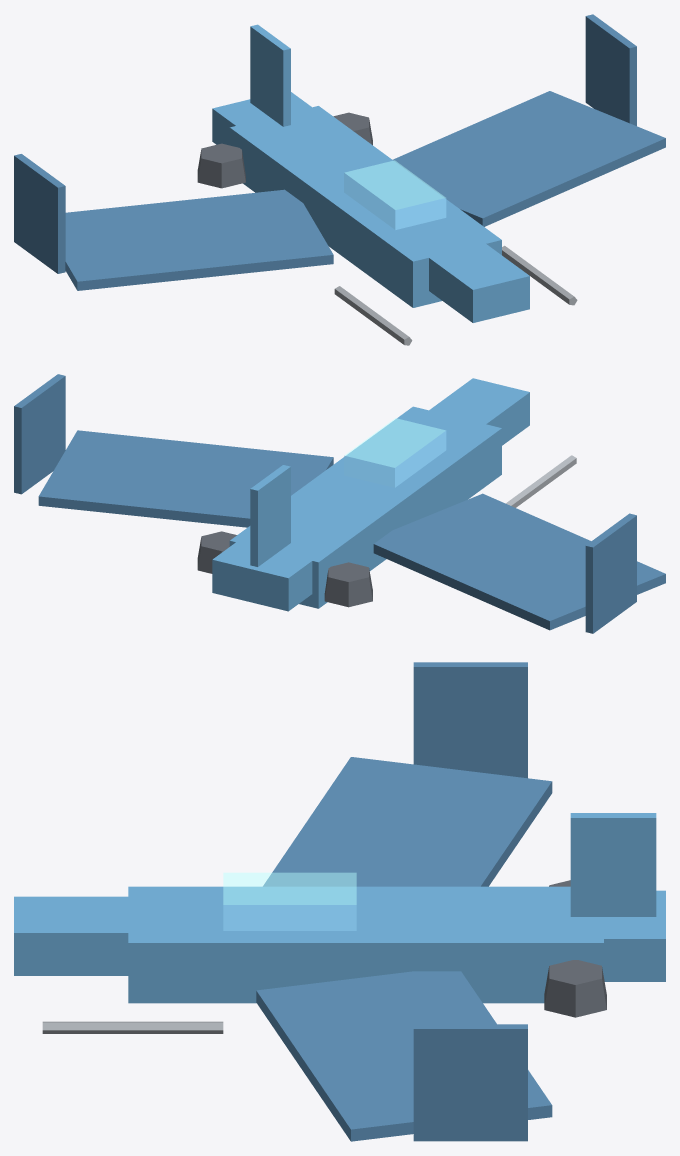
Rendered from manta.glb.
3 views of the same model, one above another, from view 1: azimuth 30°, elevation 25°; view 2: azimuth 150°, elevation 25°; view 3: azimuth 270°, elevation 25° (orthographic). The views are drawn at different scales.
Visible parts, largest first — view 1: manta; view 2: manta; view 3: manta.
Part boxes in pixels (x1,y1,x2,y2): manta: (14, 14, 665, 345); manta: (14, 374, 665, 633); manta: (14, 662, 665, 1141).
Bounding box in the file's own units: 9.27 × 1.92 × 6.85.
